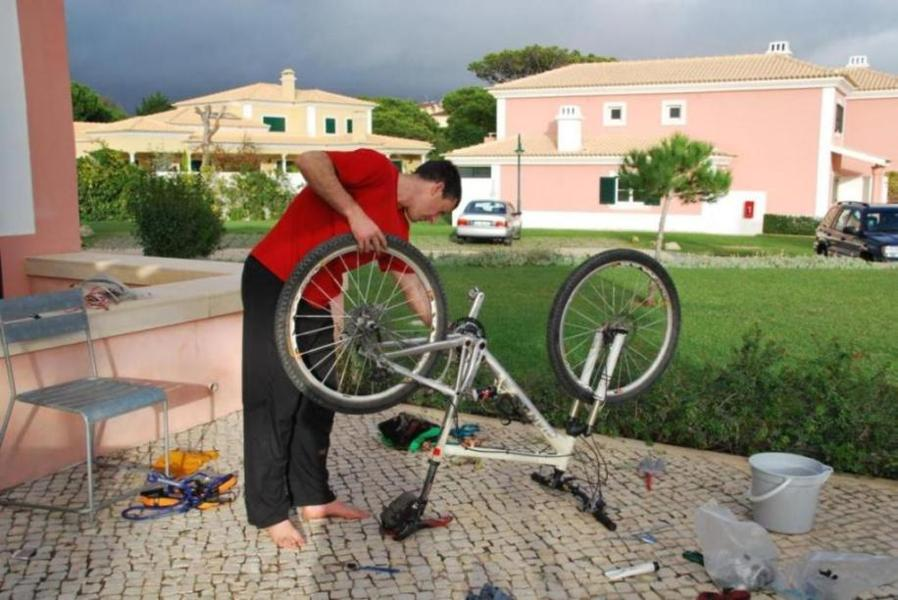person: (239, 149, 469, 551)
